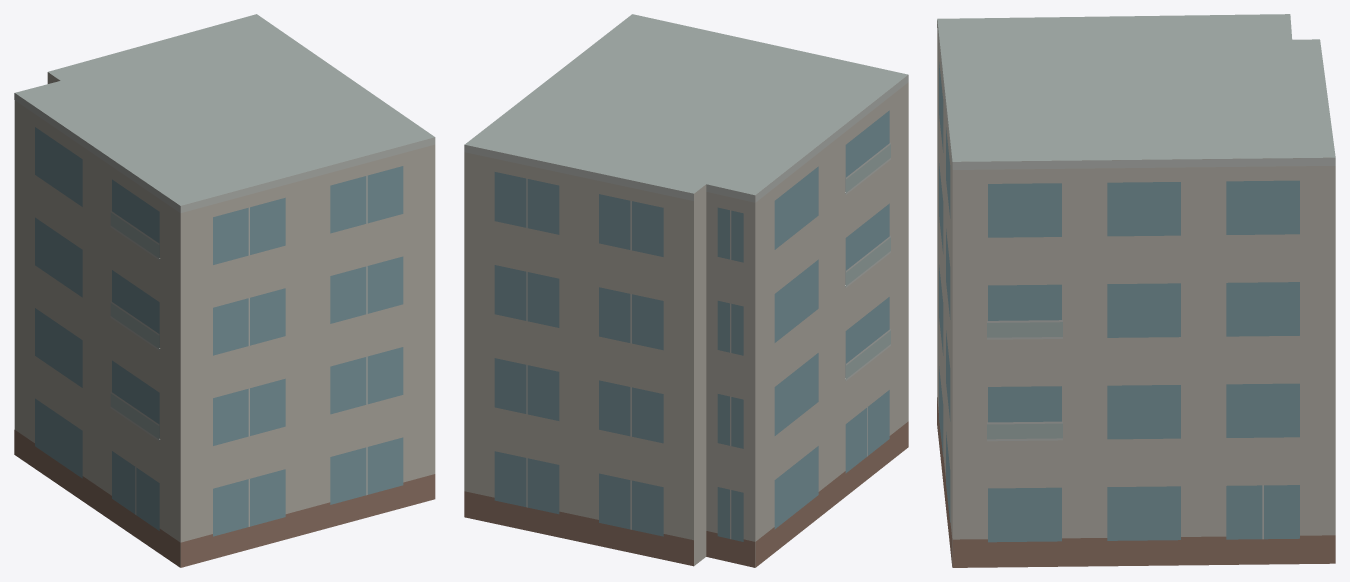
The model's file is survey-upis-32901355.glb.
3 views of the same model, side by side, from view 1: azimuth 30°, elevation 25°; view 2: azimuth 150°, elevation 25°; view 3: azimuth 270°, elevation 25° (orthographic). The views are drawn at different scales.
Parts seen in each view (by area): view 1: survey-upis-32901355.tmp; view 2: survey-upis-32901355.tmp; view 3: survey-upis-32901355.tmp.
Boxes of the visible parts, bbox=[...] form: survey-upis-32901355.tmp: bbox=[14, 14, 435, 567]; survey-upis-32901355.tmp: bbox=[464, 14, 908, 567]; survey-upis-32901355.tmp: bbox=[937, 14, 1335, 567].
Bounding box in the file's own units: 9.47 × 12.1 × 10.77.
